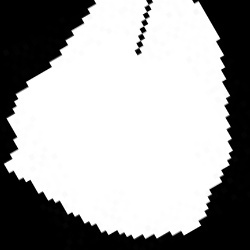spot: (3, 3, 233, 238)
